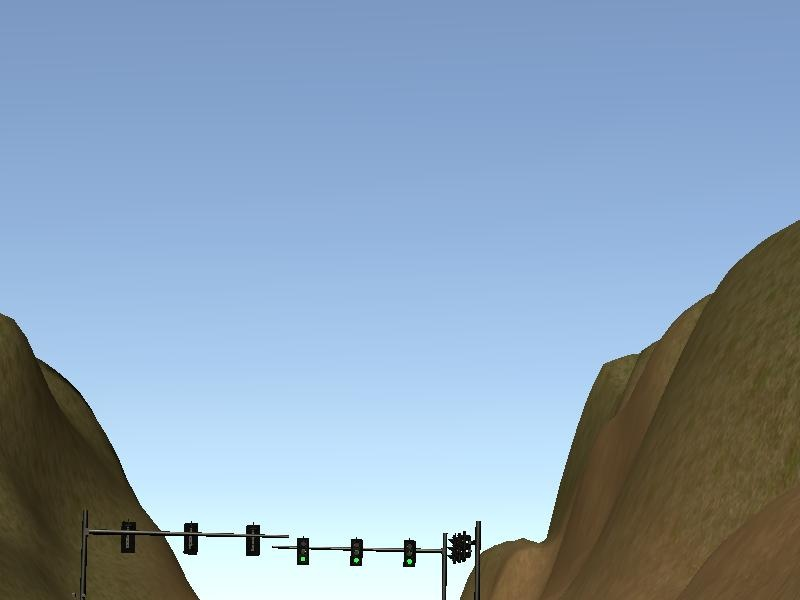Green: (350, 539, 362, 566), (403, 540, 415, 567), (297, 537, 309, 564)
